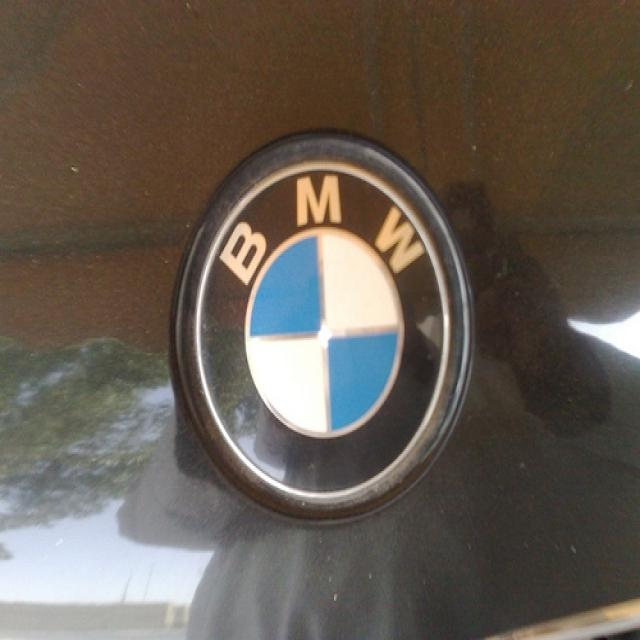bmw: (169, 131, 479, 530)
